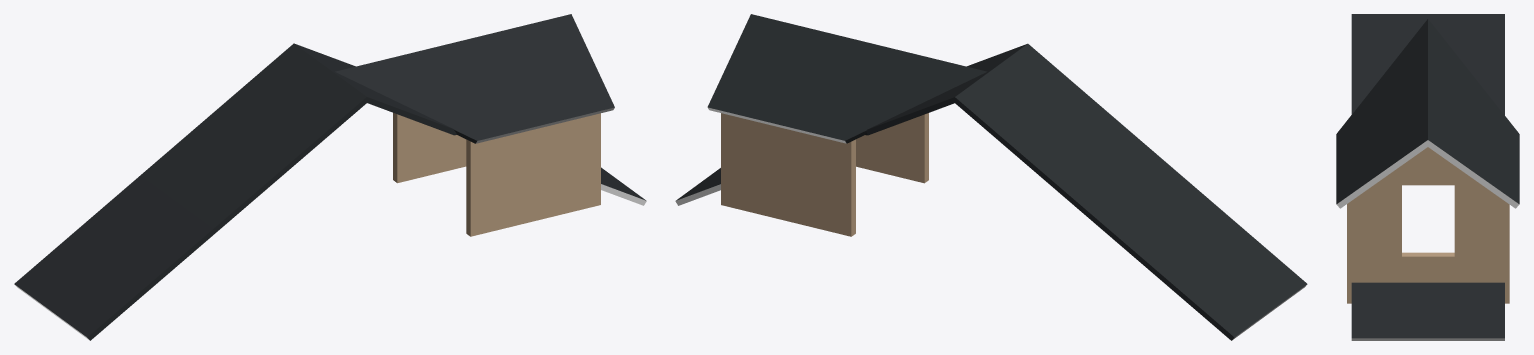
Rendered from Roof4_C1_05.fbx.
3 renders of one model, left to right at view 1: azimuth 30°, elevation 25°; view 2: azimuth 150°, elevation 25°; view 3: azimuth 270°, elevation 25°, orthographic. The views are drawn at different scales.
Visible parts, largest first — view 1: Roof4_C1_05; view 2: Roof4_C1_05; view 3: Roof4_C1_05.
Part boxes in pixels (<box>): Roof4_C1_05: <box>14,14,646,340</box>; Roof4_C1_05: <box>675,14,1307,340</box>; Roof4_C1_05: <box>1336,14,1519,340</box>.
Size of the model in its own units: 1105 by 333 by 298.
